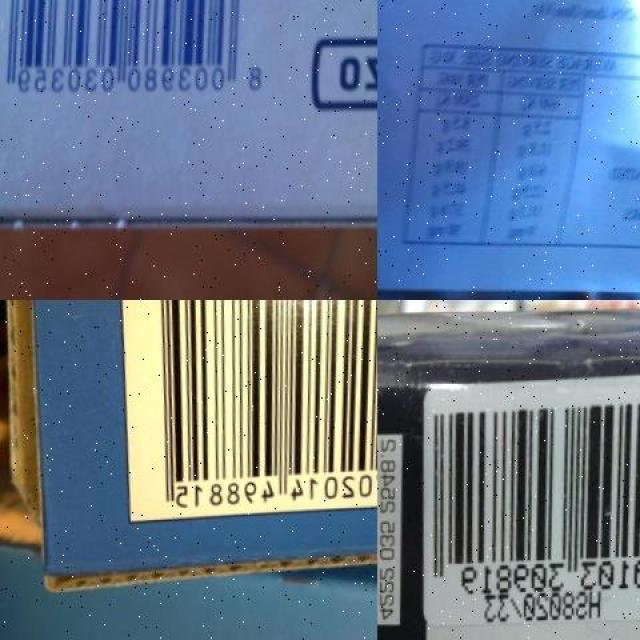Barcode: (110, 300, 378, 520), (422, 369, 640, 623), (0, 0, 274, 117)
